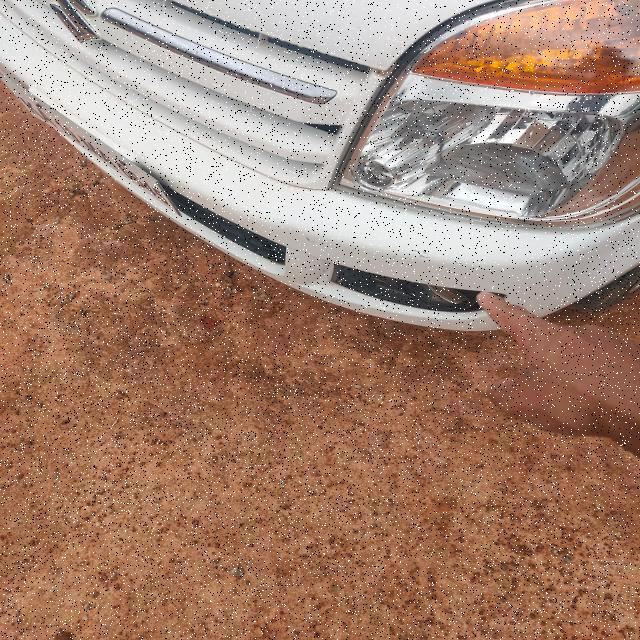front-bumper-dent: (302, 169, 600, 346)
